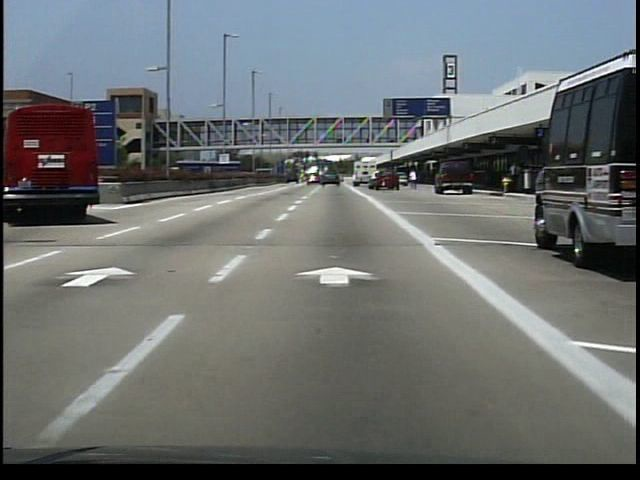person: (508, 163, 522, 197), (408, 168, 422, 191)
